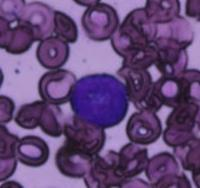B: (70, 71, 129, 126)
